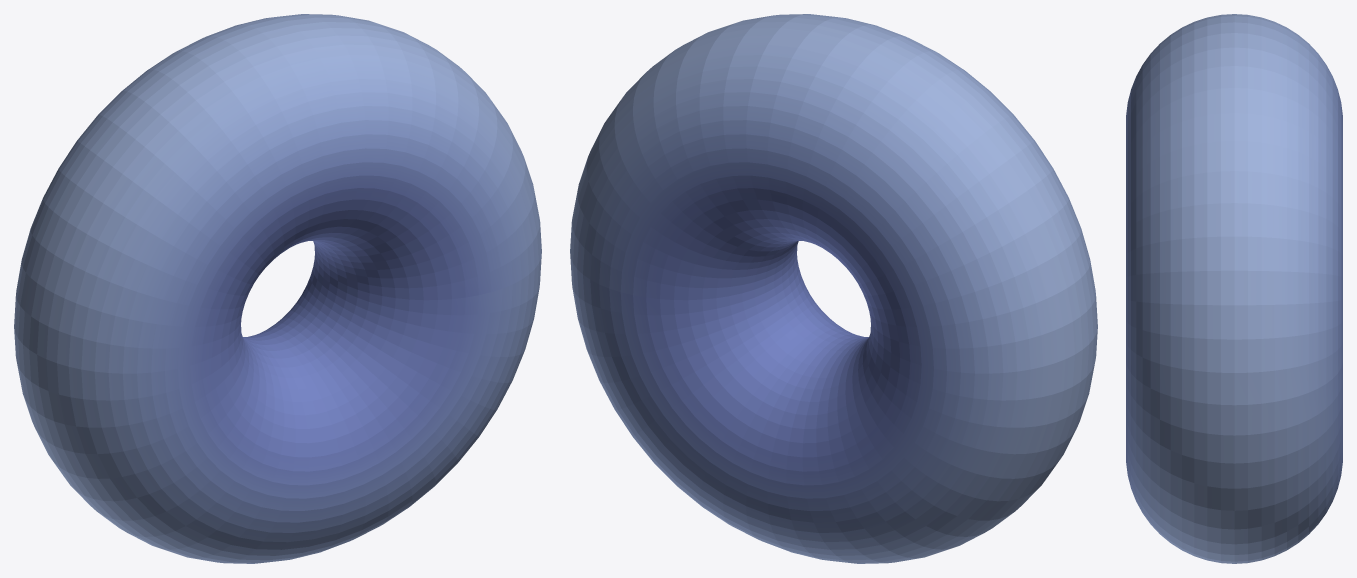
3 renders of one model, left to right at view 1: azimuth 30°, elevation 25°; view 2: azimuth 150°, elevation 25°; view 3: azimuth 270°, elevation 25°, orthographic. The views are drawn at different scales.
Visible parts, largest first — view 1: world; view 2: world; view 3: world.
Part boxes in pixels (x1,y1,x2,y2): world: (14, 14, 541, 563); world: (570, 14, 1097, 563); world: (1126, 14, 1342, 563).
Size of the model in its own units: 16.53 by 16.5 by 6.52.
